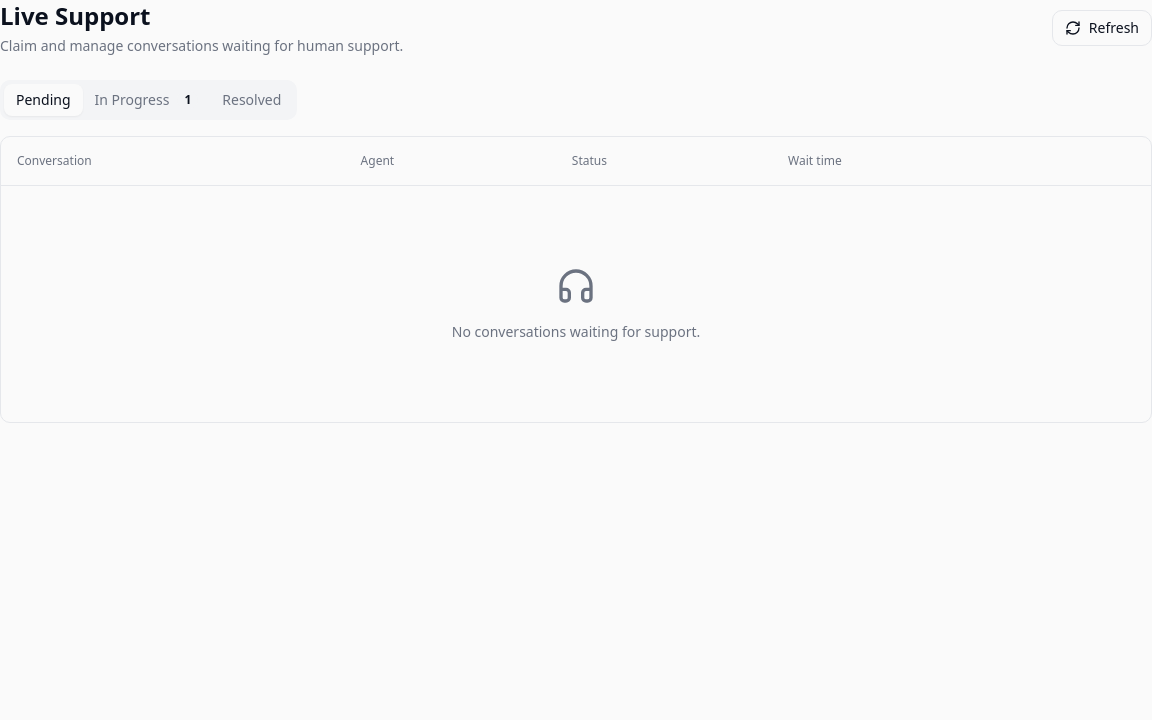
Scenario: ReplyDialog › visitorTyping_showsTypingIndicator
Step 1. Click the tab "In Progress 1" → (146, 100), box [82,84,210,116]
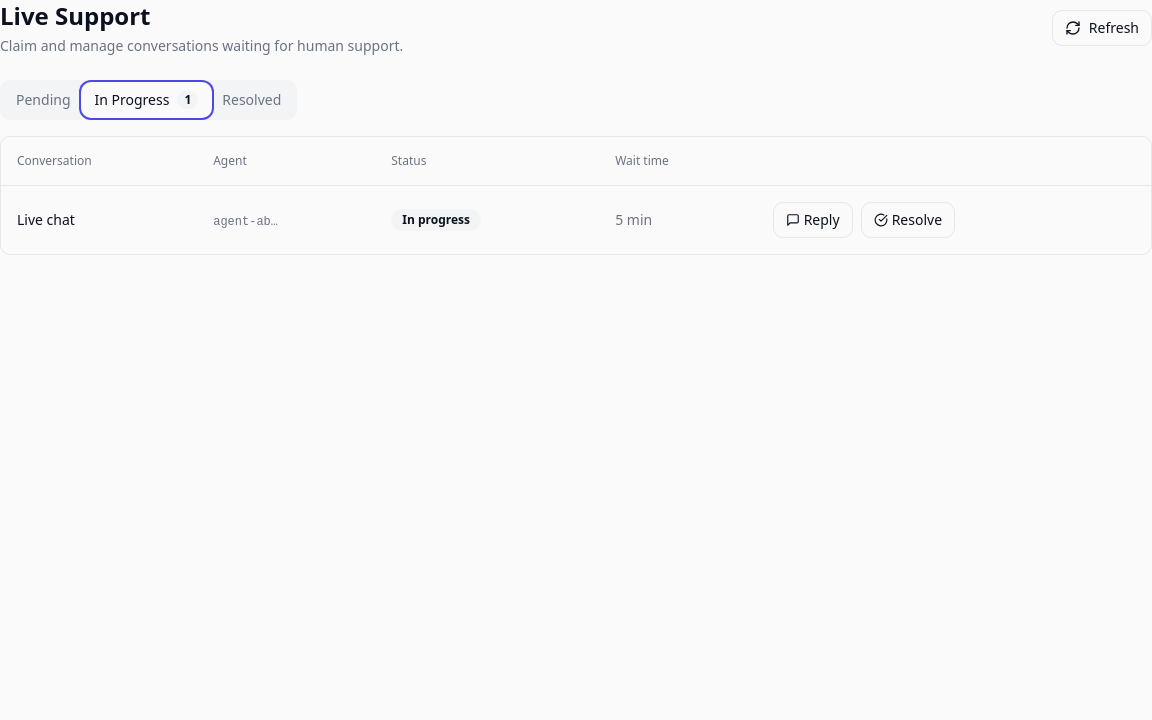
Step 2. Click the button "Reply" → (813, 220), box [773,202,853,238]
Wait 3000 ms
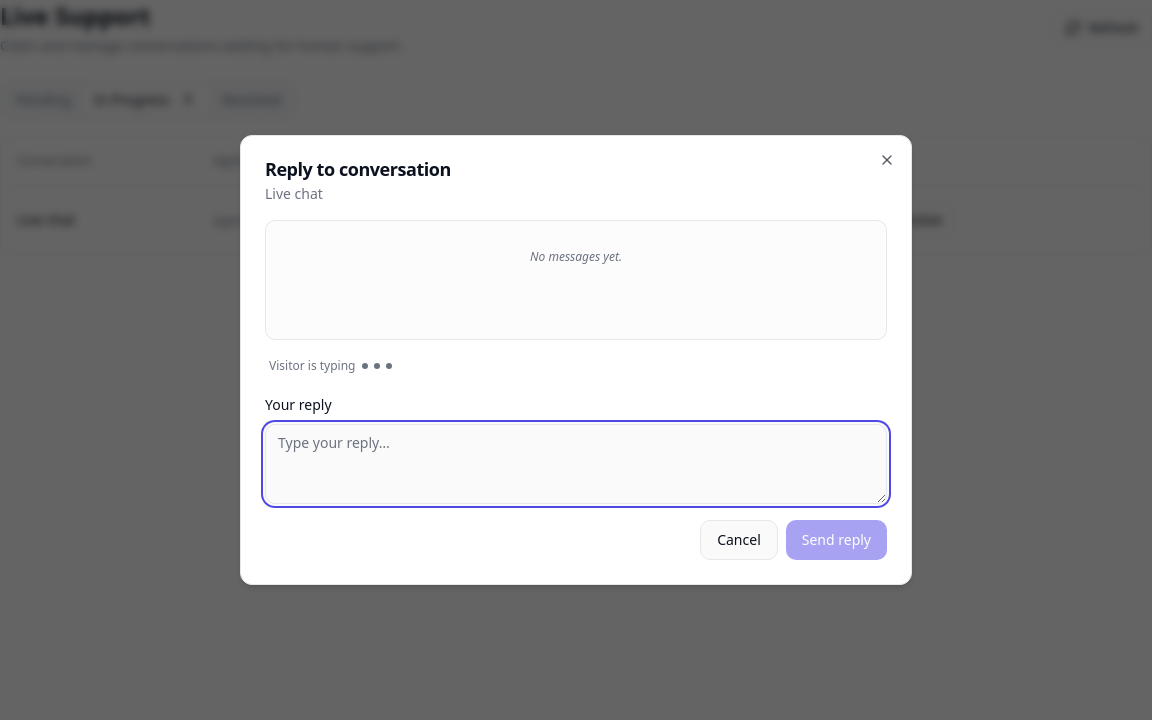
Expected: the dialog is shown, [240,135,912,585]
Expected: the text "Visitor is typing" is shown, [269,358,356,374]
